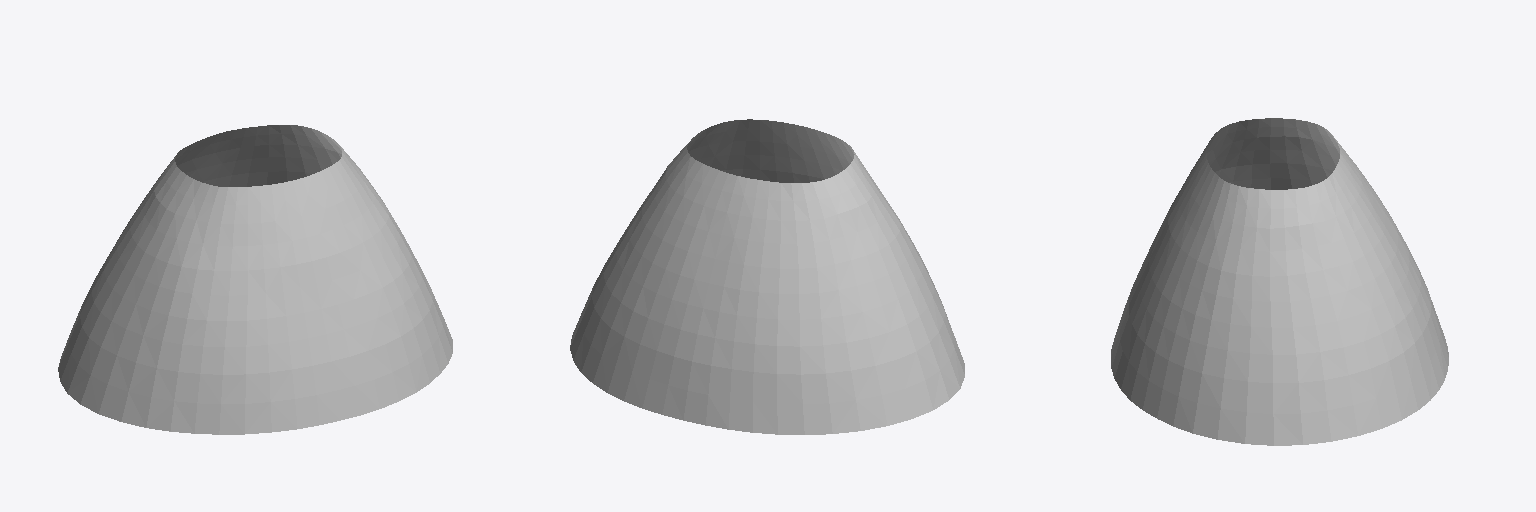
File: 12_skirtshortfull.obj
3 renders of one model, left to right at view 1: azimuth 30°, elevation 25°; view 2: azimuth 150°, elevation 25°; view 3: azimuth 270°, elevation 25°, orthographic.
Parts seen in each view (by area): view 1: skirtfront, skirtbackleft, skirtback, skirtbackright; view 2: skirtback, skirtbackleft, skirtfront, skirtbackright; view 3: skirtfront, skirtbackright, skirtback, skirtbackleft.
Part boxes in pixels (x1,y1,x2,y2): skirtfront: (67, 137, 452, 434); skirtbackleft: (58, 145, 189, 392); skirtback: (176, 125, 268, 186); skirtbackright: (267, 125, 341, 184); skirtback: (608, 164, 780, 434); skirtbackleft: (777, 174, 932, 434); skirtfront: (687, 119, 964, 409); skirtbackright: (570, 139, 702, 392); skirtfront: (1111, 118, 1302, 445); skirtbackright: (1284, 173, 1430, 444); skirtback: (1333, 136, 1448, 398); skirtbackleft: (1284, 119, 1339, 188).
Size of the model in its own units: 26.77 by 14.71 by 21.94.